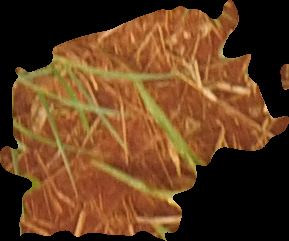soil: (2, 2, 288, 241)
